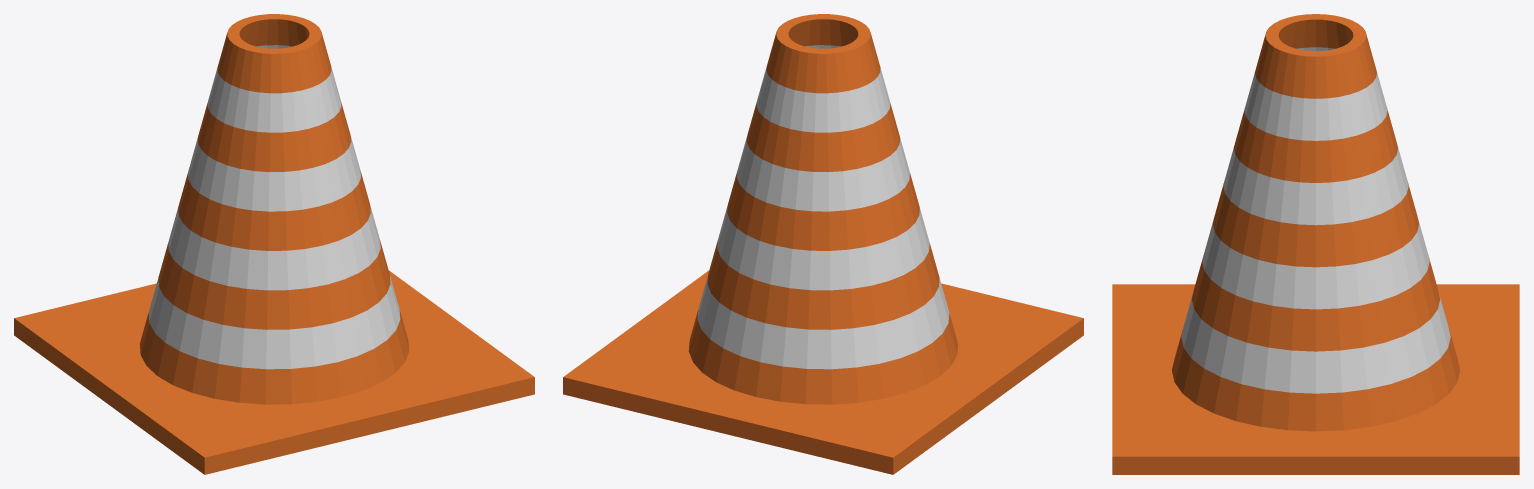
The model's file is bollard.fbx.
3 renders of one model, left to right at view 1: azimuth 30°, elevation 25°; view 2: azimuth 150°, elevation 25°; view 3: azimuth 270°, elevation 25°, orthographic. The views are drawn at different scales.
Visible parts, largest first — view 1: Cube; view 2: Cube; view 3: Cube.
Boxes of the visible parts, x1,y1,x2,y2 form: Cube: (14, 14, 534, 474); Cube: (563, 14, 1083, 474); Cube: (1112, 14, 1519, 474).
Bounding box in the file's own units: 93.35 × 89.42 × 93.35.
